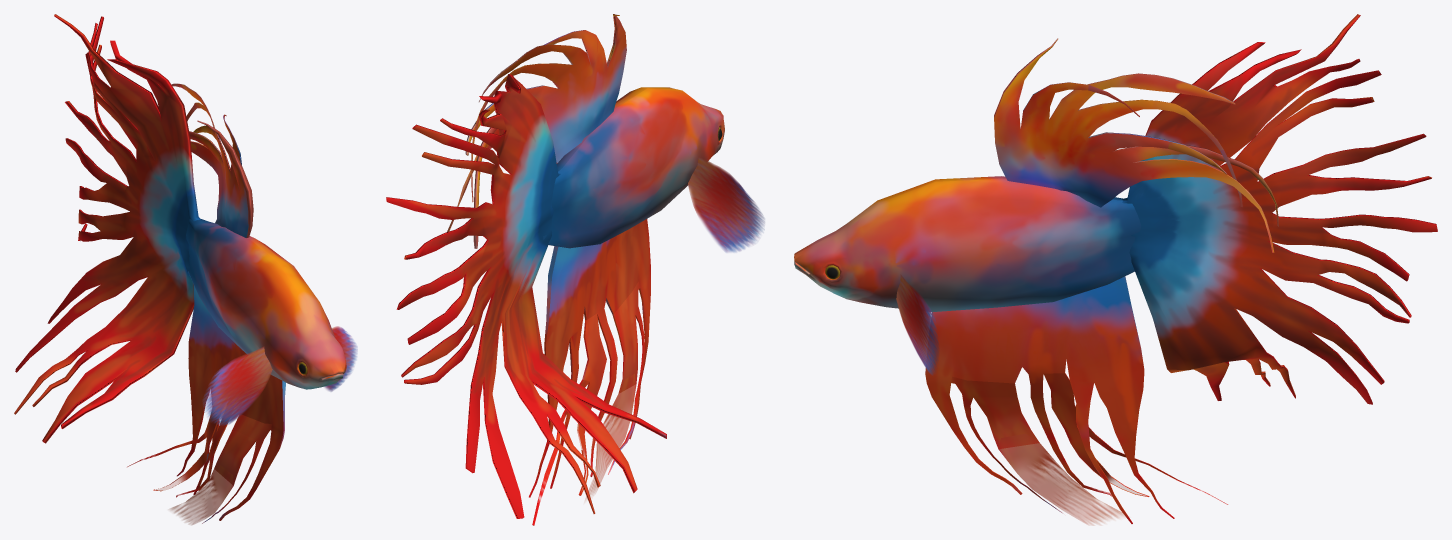
3 views of the same model, side by side, from view 1: azimuth 30°, elevation 25°; view 2: azimuth 150°, elevation 25°; view 3: azimuth 270°, elevation 25° (orthographic). The views are drawn at different scales.
Visible parts, largest first — view 1: BackFin, Body, BottomFin, UpperFin, Fin_l, Fin_r; view 2: BackFin, Body, BottomFin, UpperFin, Fin_l; view 3: BackFin, Body, BottomFin, UpperFin, Fin_r.
Part boxes in pixels (x1=…): BackFin: x1=14, y1=14, x2=200, y2=443; Body: x1=184, y1=218, x2=346, y2=389; BottomFin: x1=127, y1=285, x2=285, y2=524; UpperFin: x1=171, y1=83, x2=253, y2=237; Fin_l: x1=203, y1=347, x2=272, y2=425; Fin_r: x1=324, y1=326, x2=357, y2=391; BackFin: x1=386, y1=74, x2=666, y2=518; Body: x1=543, y1=87, x2=724, y2=248; BottomFin: x1=529, y1=219, x2=650, y2=525; UpperFin: x1=447, y1=14, x2=626, y2=248; Fin_l: x1=688, y1=156, x2=764, y2=252; BackFin: x1=1122, y1=14, x2=1437, y2=404; Body: x1=794, y1=176, x2=1141, y2=311; BottomFin: x1=925, y1=276, x2=1227, y2=525; UpperFin: x1=994, y1=38, x2=1278, y2=252; Fin_r: x1=896, y1=275, x2=938, y2=374.
Size of the model in its own units: 263 by 551 by 638.
5 materials, 5 textured.
